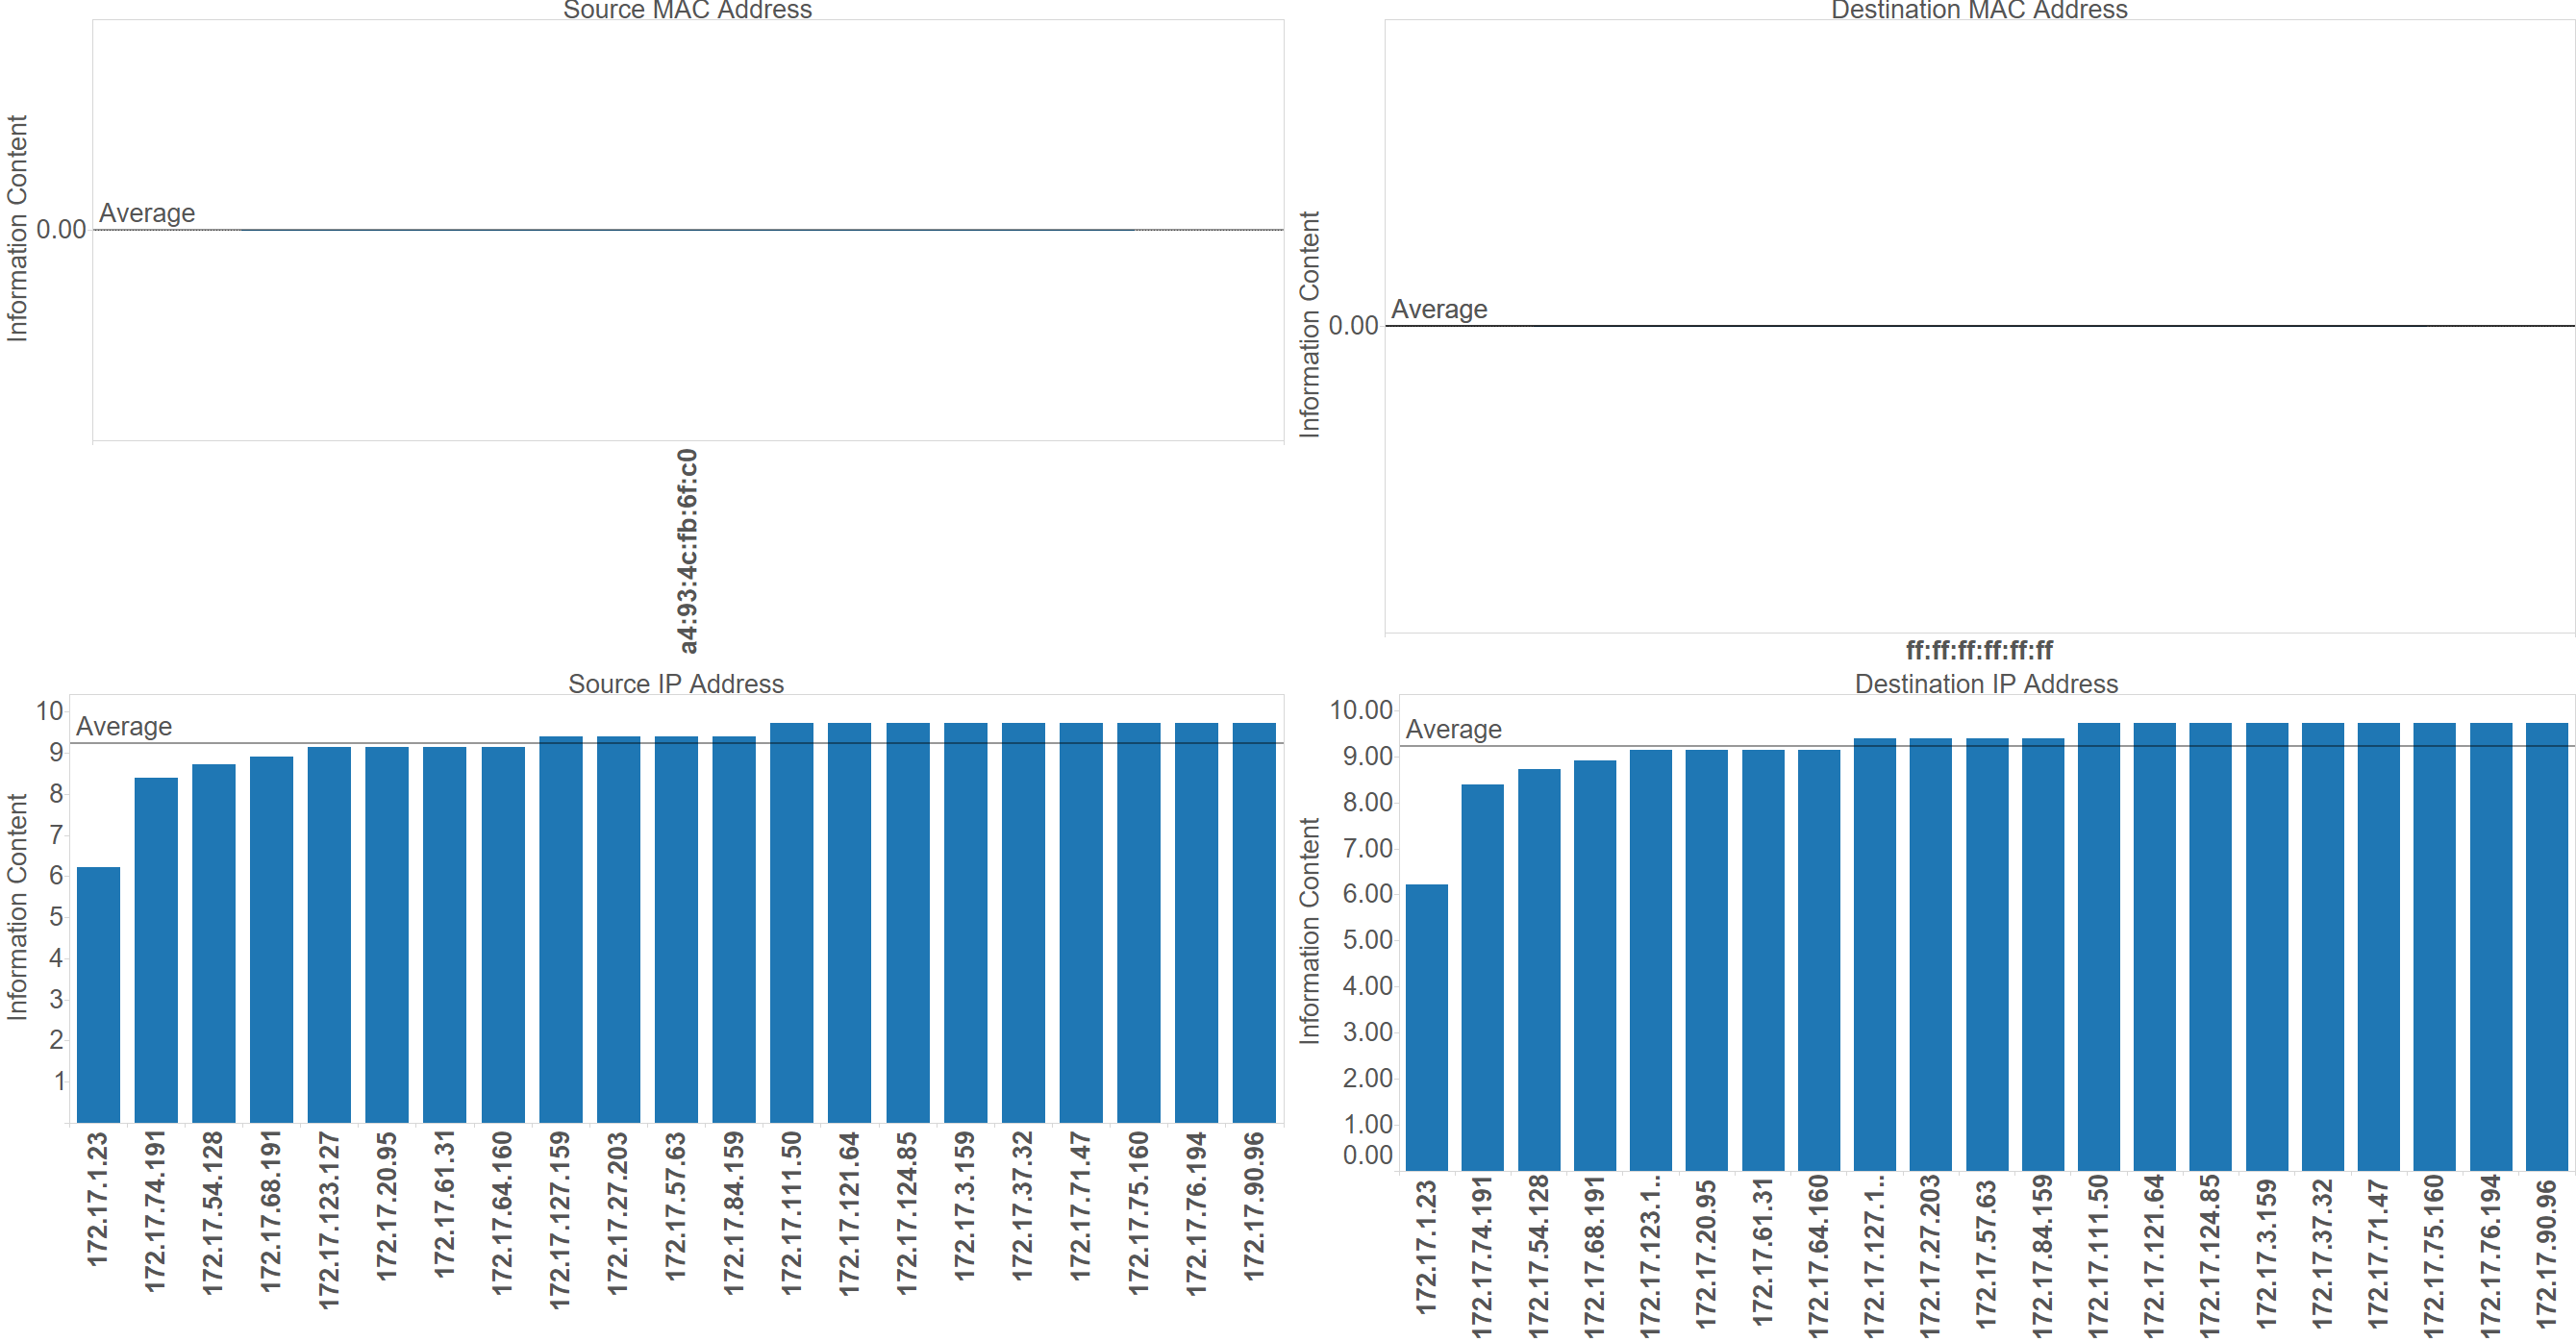

This screenshot's page, from the dashboard's own definition file:
{"tool":"tableau","page":{"name":"PDFs Dashboard","canvas":[1000,1000],"units":"permille","ordinal":1},"visuals":[{"type":"worksheet","title":"Source MAC PDF","mark":"Automatic","rows":["Calculation_558446359774420994"],"cols":["hwsrc"],"box":[0,0,500,500]},{"type":"worksheet","title":"Destination MAC PDF","mark":"Automatic","rows":["Calculation_558446359774584835"],"cols":["hwdst"],"box":[500,0,500,500]},{"type":"worksheet","title":"Source IP PDF","mark":"Automatic","rows":["Calculation_558446359785705483"],"cols":["ipsrc"],"box":[0,500,500,500]},{"type":"worksheet","title":"Destination IP PDF","mark":"Automatic","rows":["Calculation_558446359774961669"],"cols":["ipdst"],"box":[500,500,500,500]}]}

Visuals, with their boxes on the dashboard's canvas, which has no fixed pixel size, in thousandths of its width and height (x1, y1, x2, y2). These are canvas units, not pixel positions in the 2576x1342 screenshot, which may show the page scaled, cropped or inside an application window:
"Source MAC PDF" worksheet: x1=0, y1=0, x2=500, y2=500
"Destination MAC PDF" worksheet: x1=500, y1=0, x2=1000, y2=500
"Source IP PDF" worksheet: x1=0, y1=500, x2=500, y2=1000
"Destination IP PDF" worksheet: x1=500, y1=500, x2=1000, y2=1000
